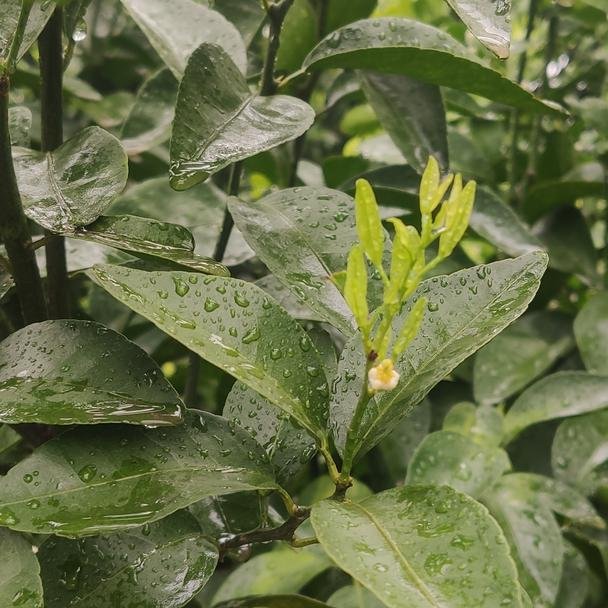shoot: (342, 173, 478, 358)
